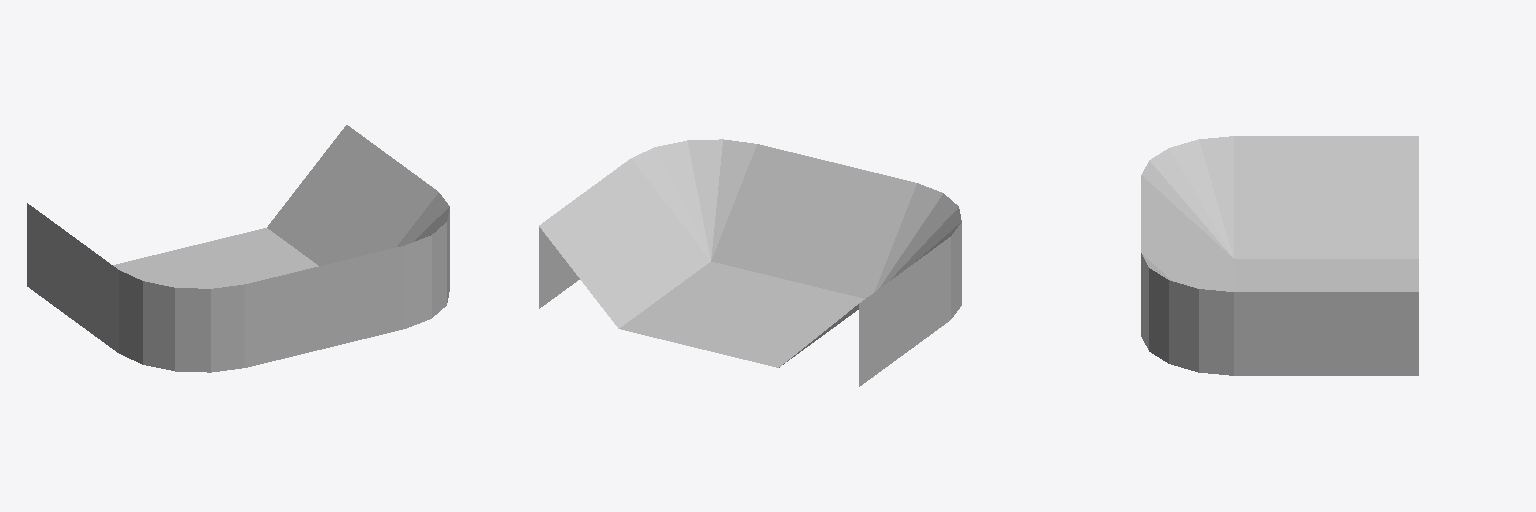
File: stadium01.obj
The picture shows the model from 3 angles: view 1: azimuth 30°, elevation 25°; view 2: azimuth 150°, elevation 25°; view 3: azimuth 270°, elevation 25°; orthographic projection.
Parts seen in each view (by area): view 1: Mesh1 Model; view 2: Mesh1 Model; view 3: Mesh1 Model.
Boxes of the visible parts, box(x1,y1,x2,y2) form: Mesh1 Model: box(27, 125, 449, 372); Mesh1 Model: box(539, 139, 961, 386); Mesh1 Model: box(1141, 136, 1418, 375).
Size of the model in its own units: 100 by 25 by 75.